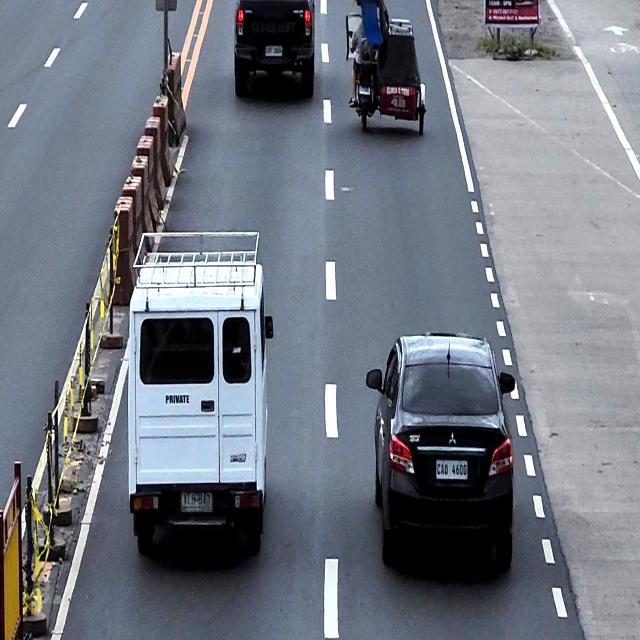Car: (128, 227, 274, 552), (364, 332, 519, 575), (232, 0, 317, 104)
License-Plate: (180, 492, 214, 516), (435, 458, 469, 481), (265, 44, 283, 57), (358, 84, 371, 96)
Tricycle: (344, 0, 426, 139)
